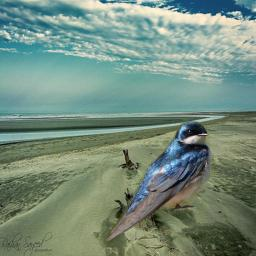Swallow: (105, 118, 213, 245)
